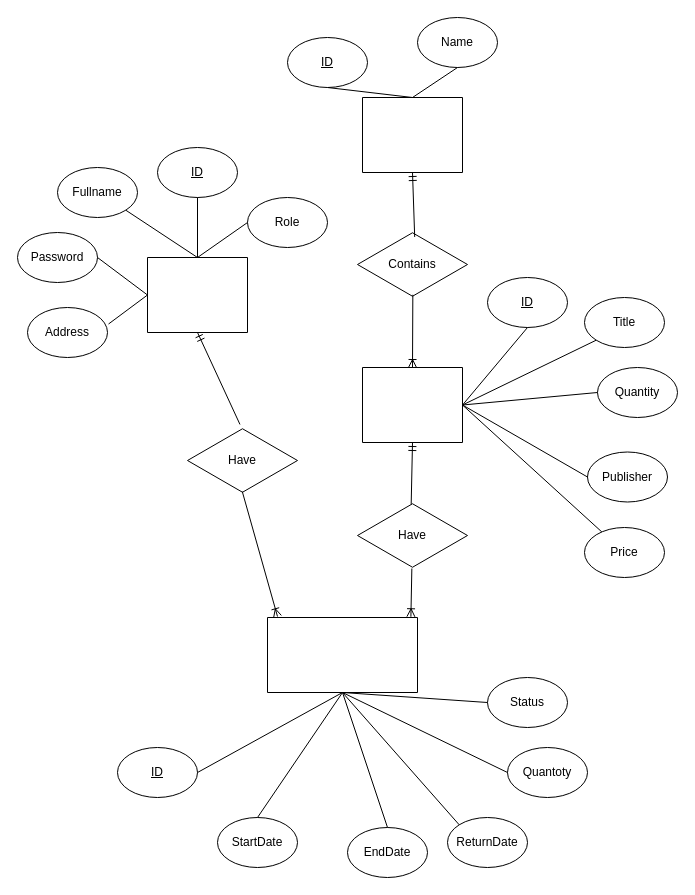
This 695x895 diagram has some shape labels left out. The shapes that lost their labels are listed below. From the top down, each one's centre as x and y in pixels, then its label:
At point 412,134: "CATEGORY".
At point 197,294: "USER".
At point 412,404: "BOOK".
At point 342,654: "BORROWRECORD".
